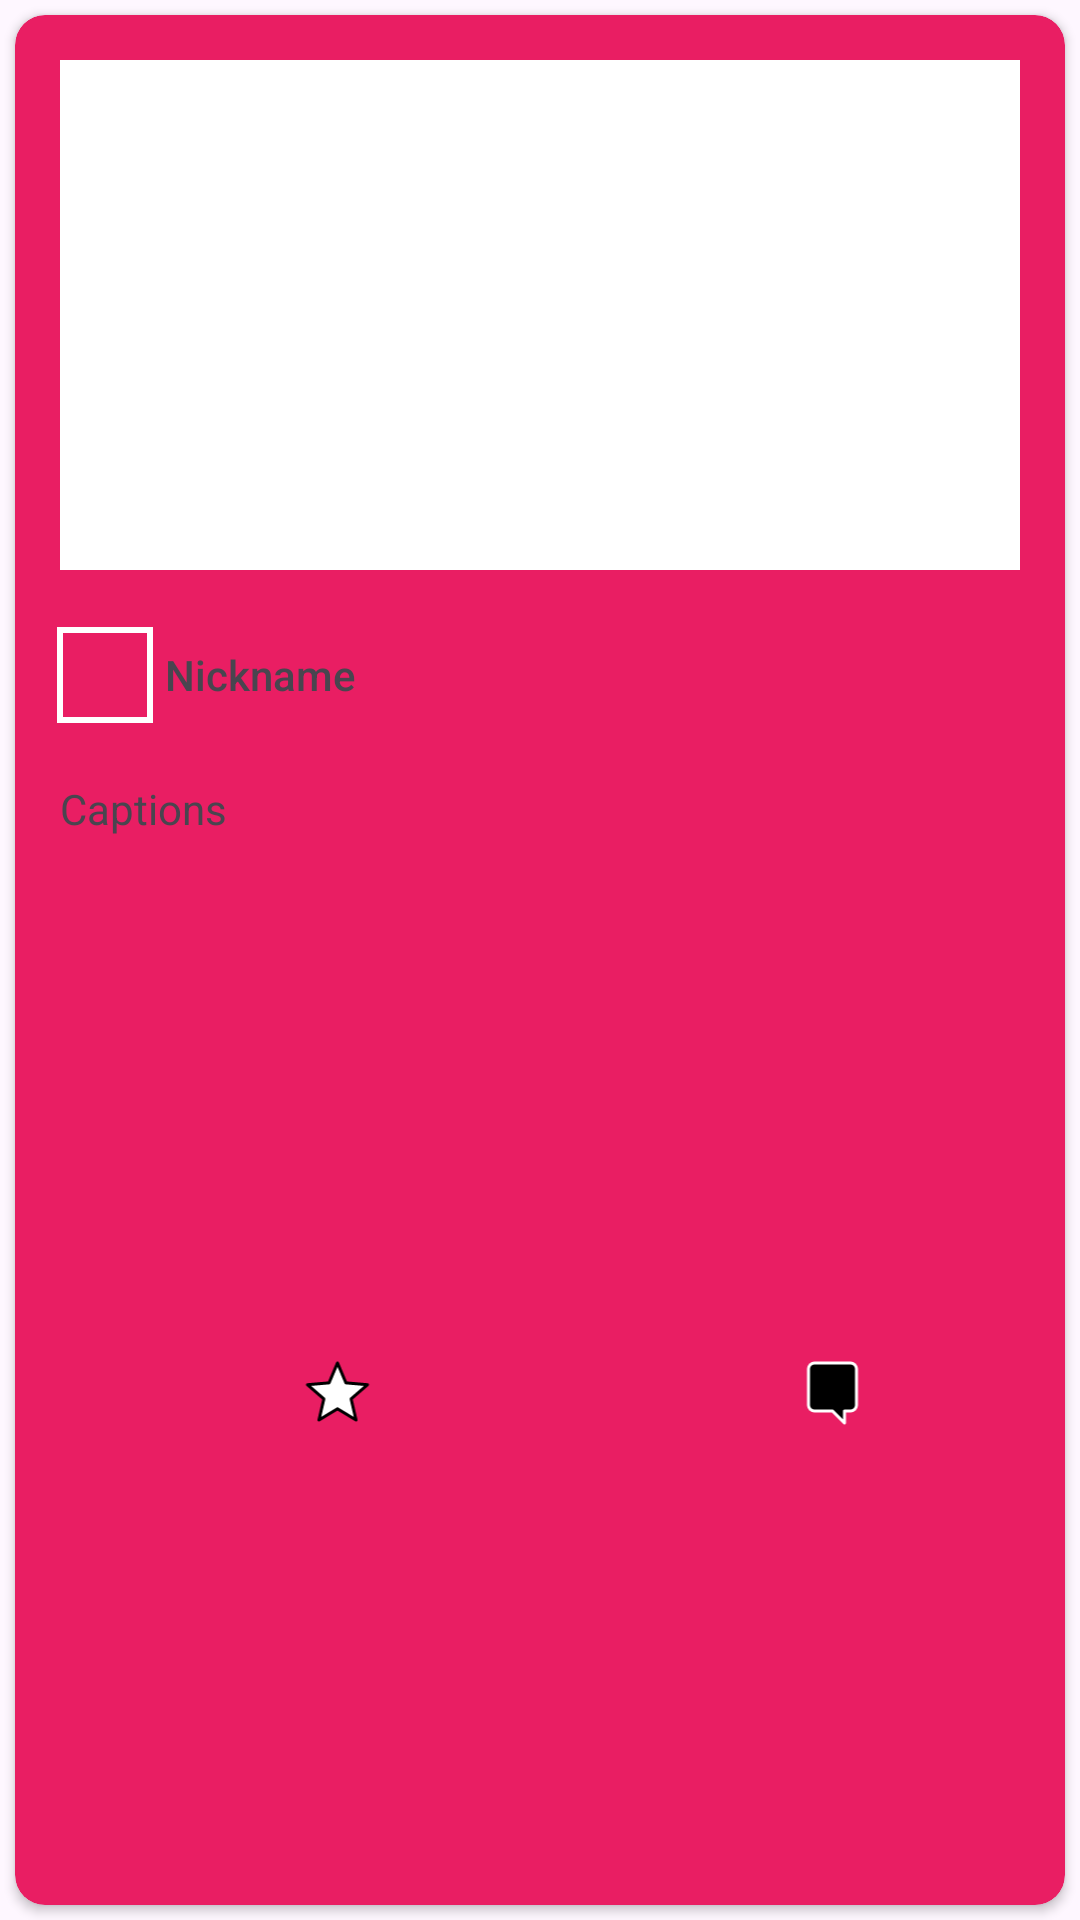

Point at icon controls on the screen. Image size 1080px x 1920px, points as (x,y).
comment: (832,1393)
star: (337,1391)
